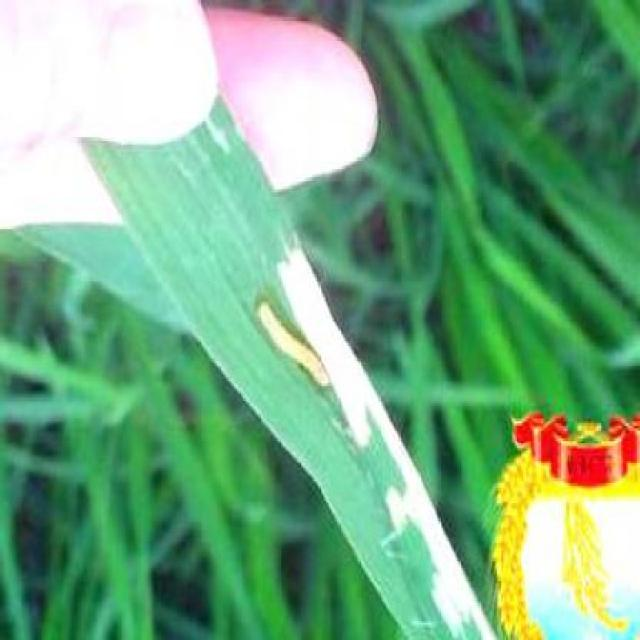leaf-folder: (242, 284, 344, 414)
